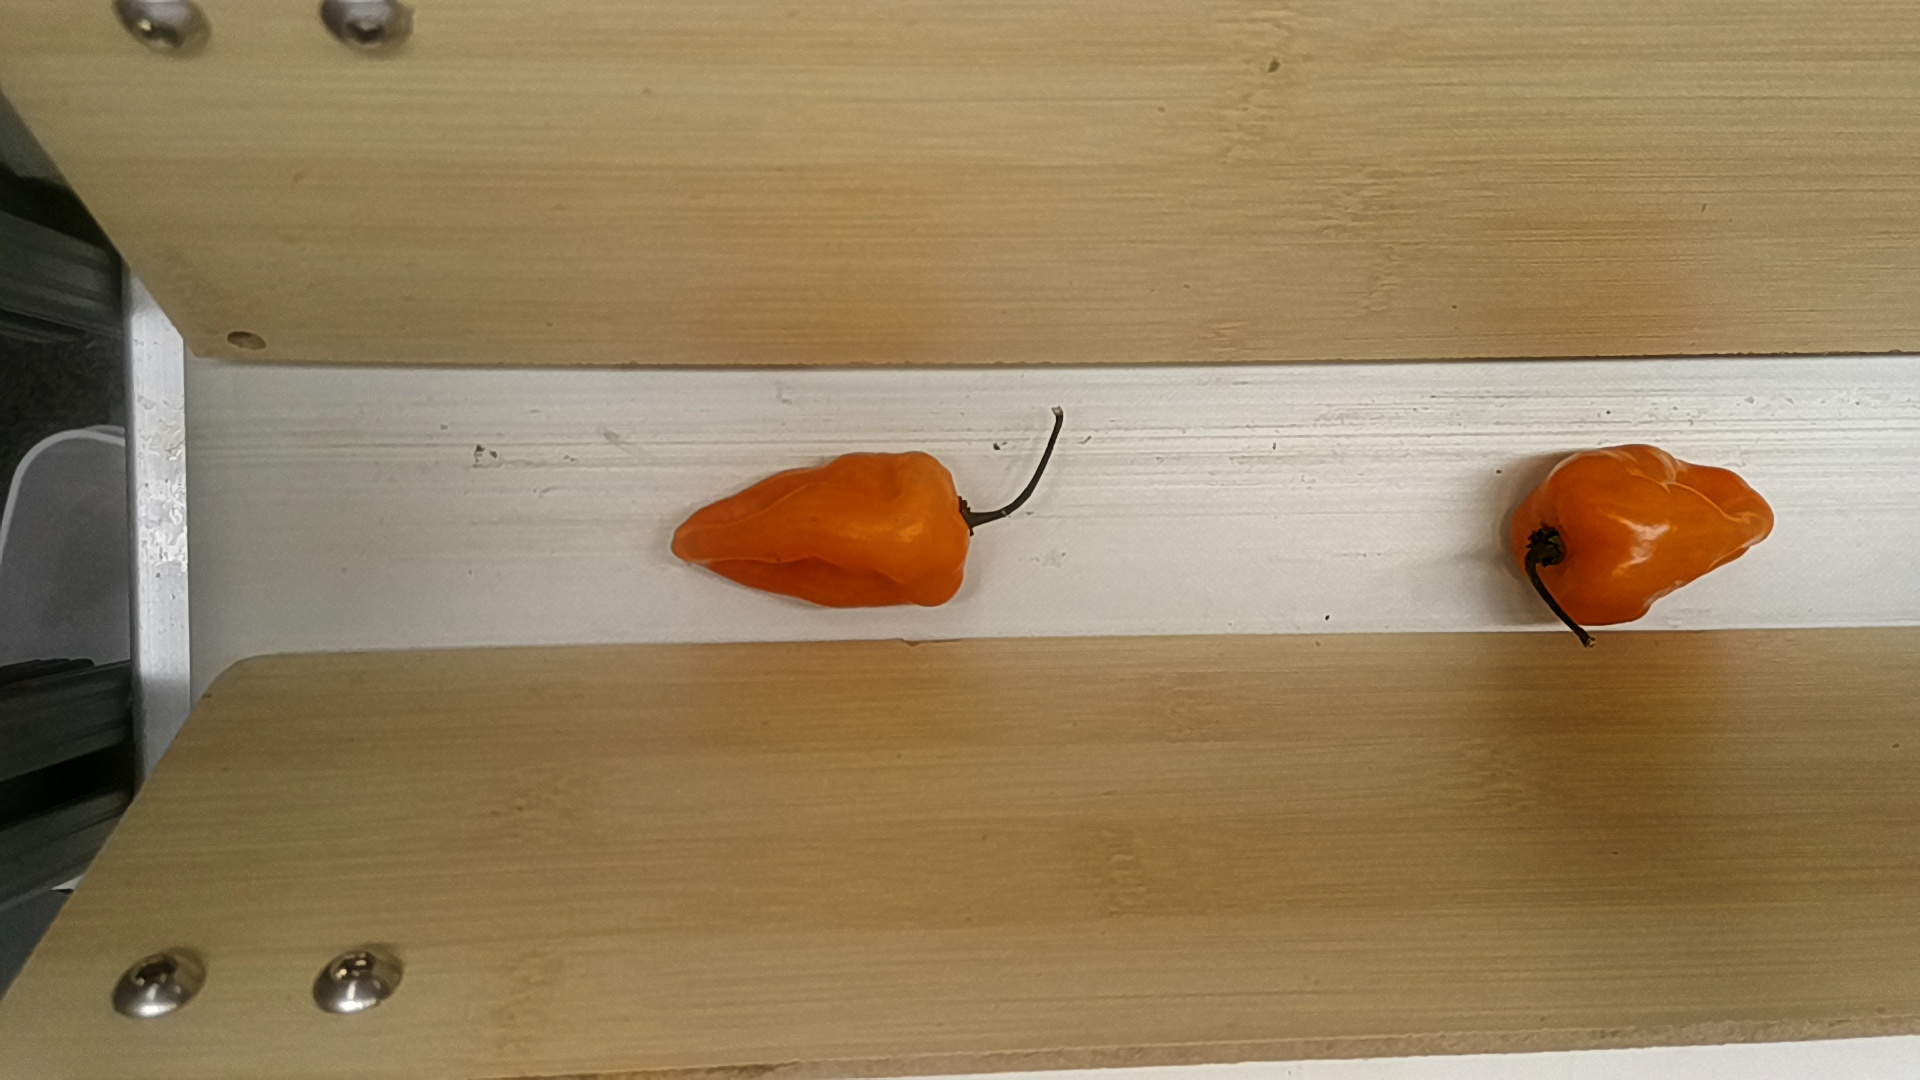Cut Point: (1527, 448, 1593, 632), (923, 444, 985, 601)
